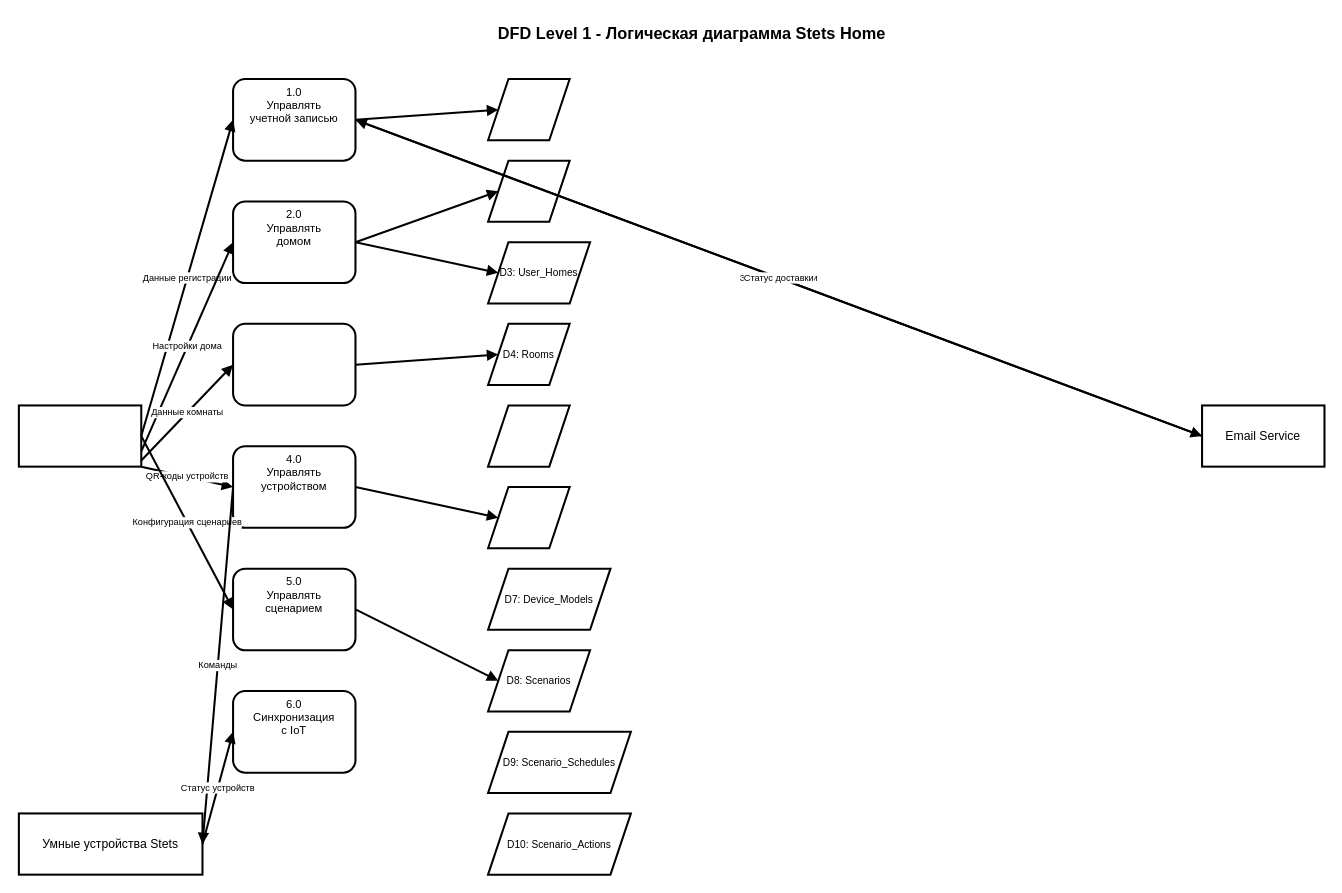
This 1342x893 diagram has some shape labels left out. Each missing label, with the centre of its shape:
3.0 Управлять комнатой: (294,364)
D1: Users: (528,109)
D2: Homes: (528,190)
D5: Icons: (528,435)
D6: Devices: (528,517)
Пользователь: (79,435)
